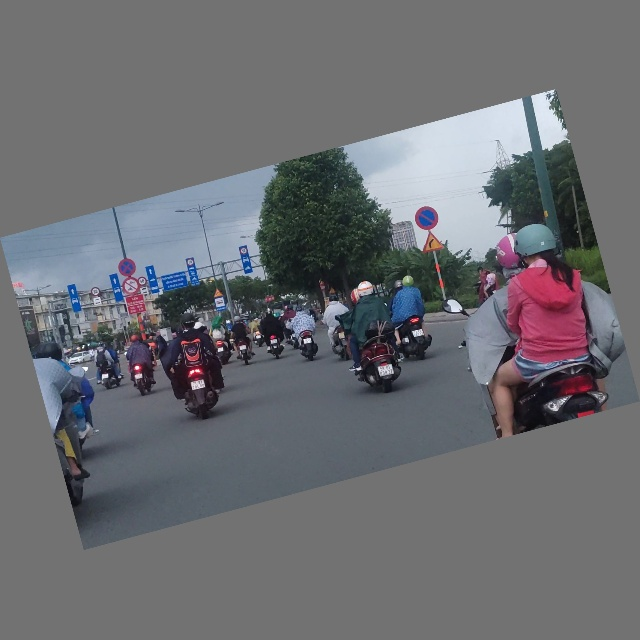I.434a: (214, 297, 227, 313)
P.111: (120, 276, 142, 298)
P.127*50: (186, 258, 195, 267), (240, 248, 248, 256)
P.127*80: (89, 286, 101, 298)
P.130: (115, 256, 138, 279)
P.131a: (412, 205, 441, 234)
S.505a*Xe tai va cong: (140, 287, 149, 296)
W.201b: (418, 230, 445, 255), (211, 287, 224, 299)
